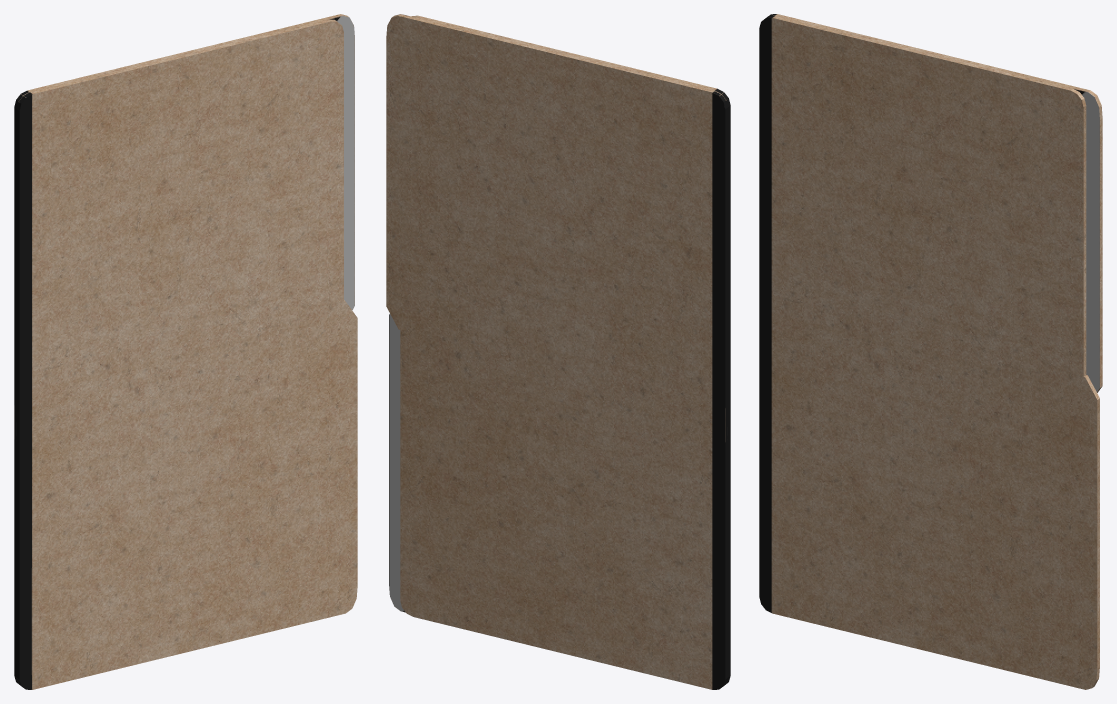
Rendered from FileFolderPaper.fbx.
The picture shows the model from 3 angles, left to right: view 1: azimuth 30°, elevation 25°; view 2: azimuth 150°, elevation 25°; view 3: azimuth 330°, elevation 25°; orthographic projection.
Parts seen in each view (by area): view 1: File Folder Paper; view 2: File Folder Paper; view 3: File Folder Paper.
Boxes of the visible parts, <box> form: File Folder Paper: <box>14,14,357,689</box>; File Folder Paper: <box>386,14,730,689</box>; File Folder Paper: <box>759,14,1102,689</box>.
Bounding box in the file's own units: 10.07 × 16.95 × 0.2709.
Materials: 1 (1 with a texture image).
